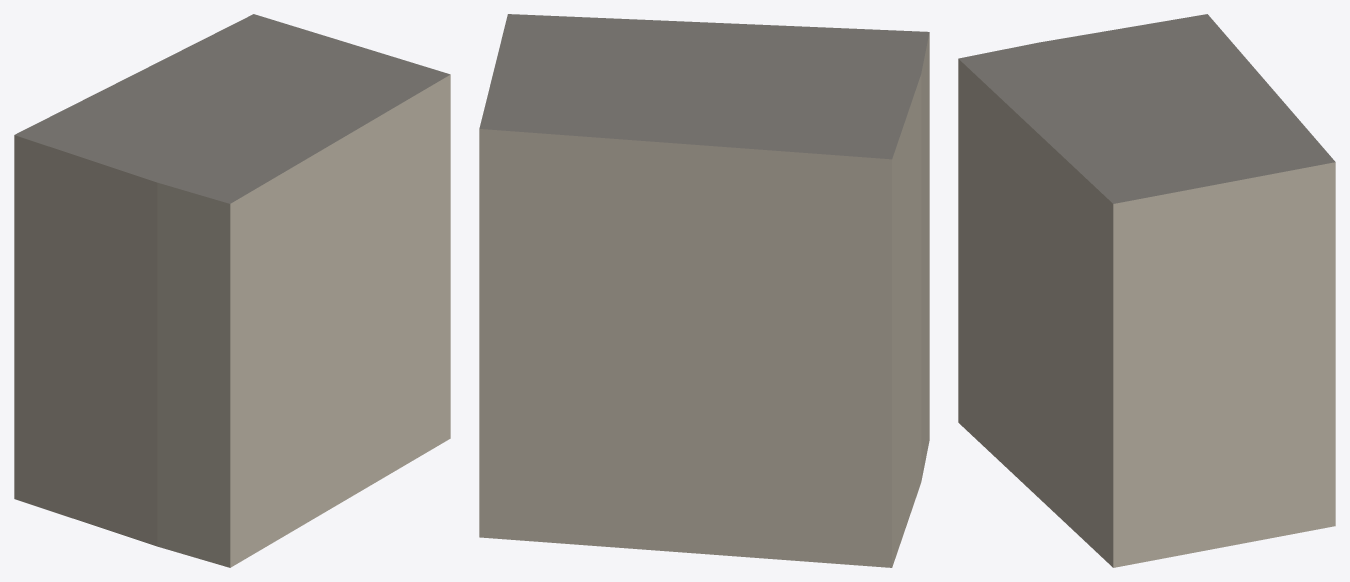
The picture shows the model from 3 angles, left to right: view 1: azimuth 30°, elevation 25°; view 2: azimuth 150°, elevation 25°; view 3: azimuth 270°, elevation 25°; orthographic projection. The views are drawn at different scales.
Parts seen in each view (by area): view 1: HP-w1196773009; view 2: HP-w1196773009; view 3: HP-w1196773009.
Boxes of the visible parts, x1,y1,x2,y2 form: HP-w1196773009: [14, 14, 450, 567]; HP-w1196773009: [479, 14, 929, 567]; HP-w1196773009: [958, 14, 1335, 567].
Size of the model in its own units: 20.15 by 18 by 16.92.
